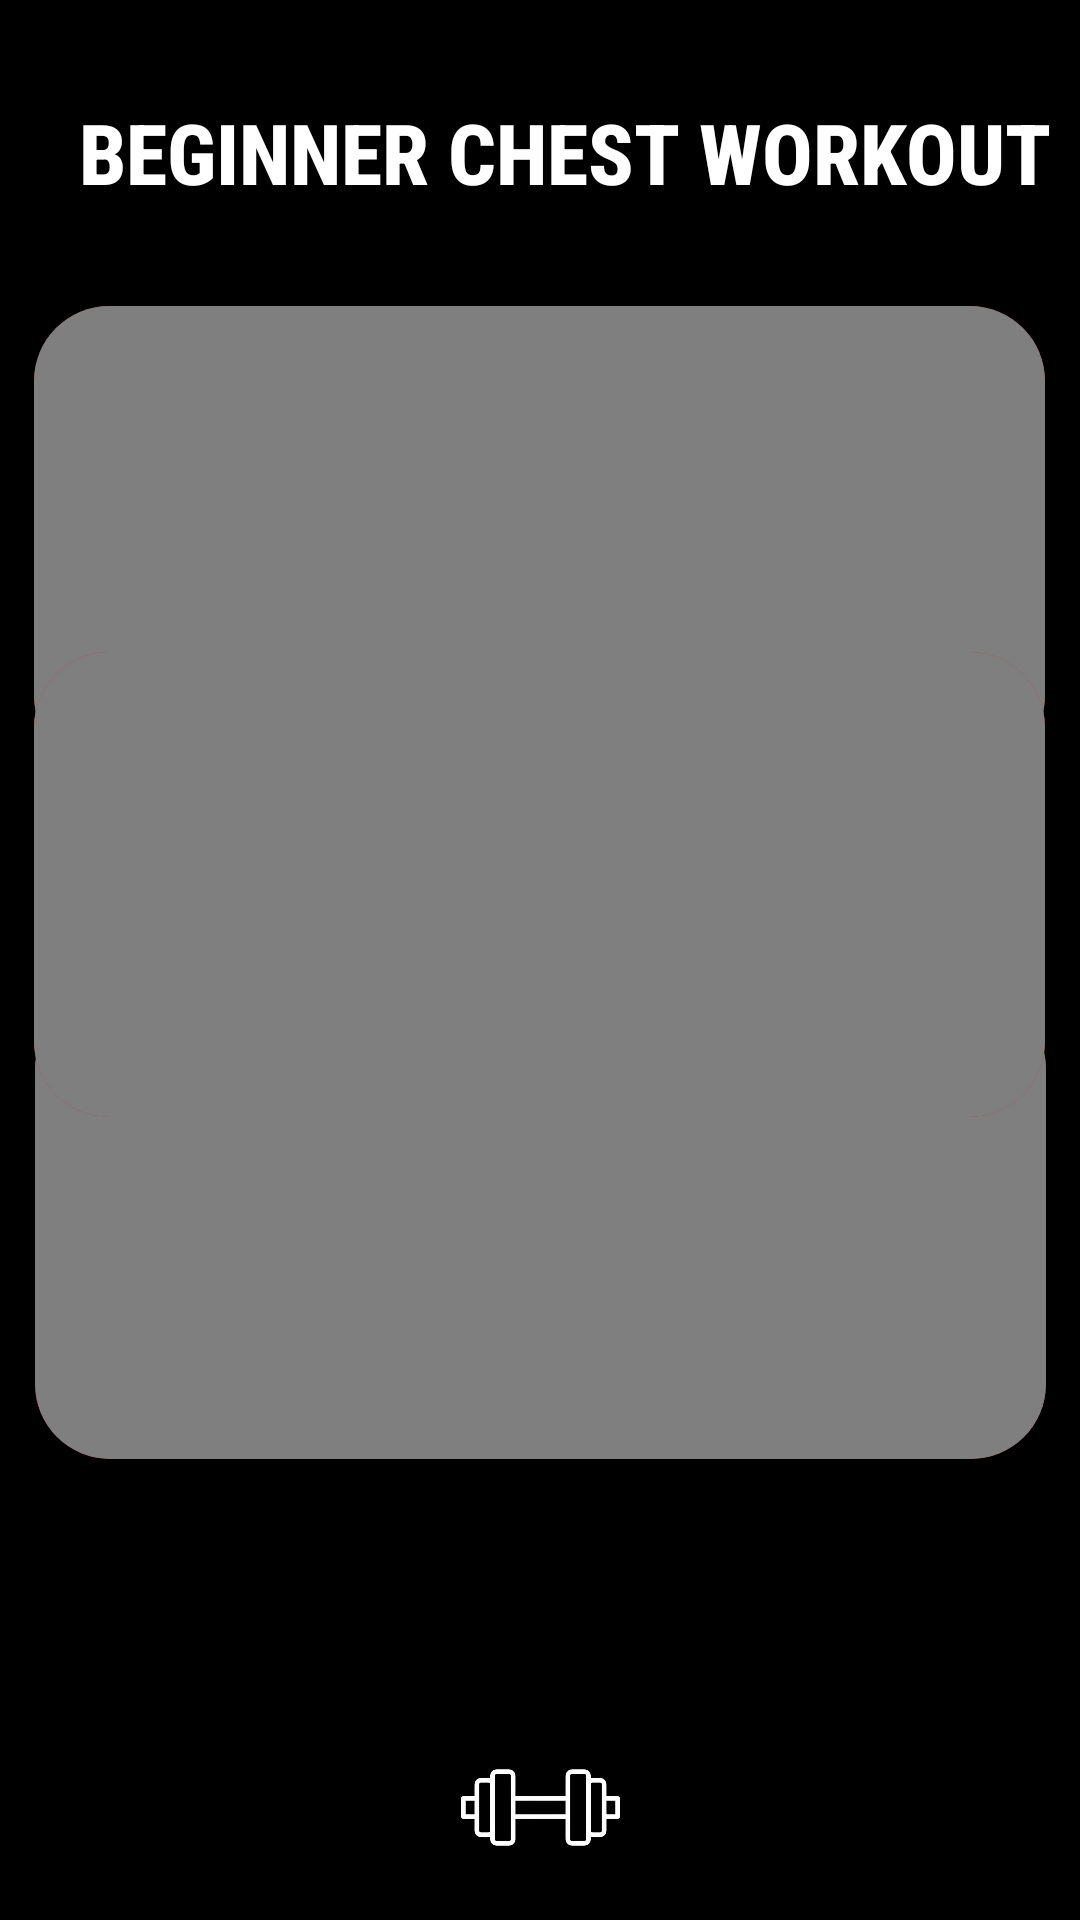

Screen size 1080 x 1920. Icon name, then its box in pixels as detection(x1, y1, x2, y2):
imgdumbell: detection(461, 1769, 620, 1846)
